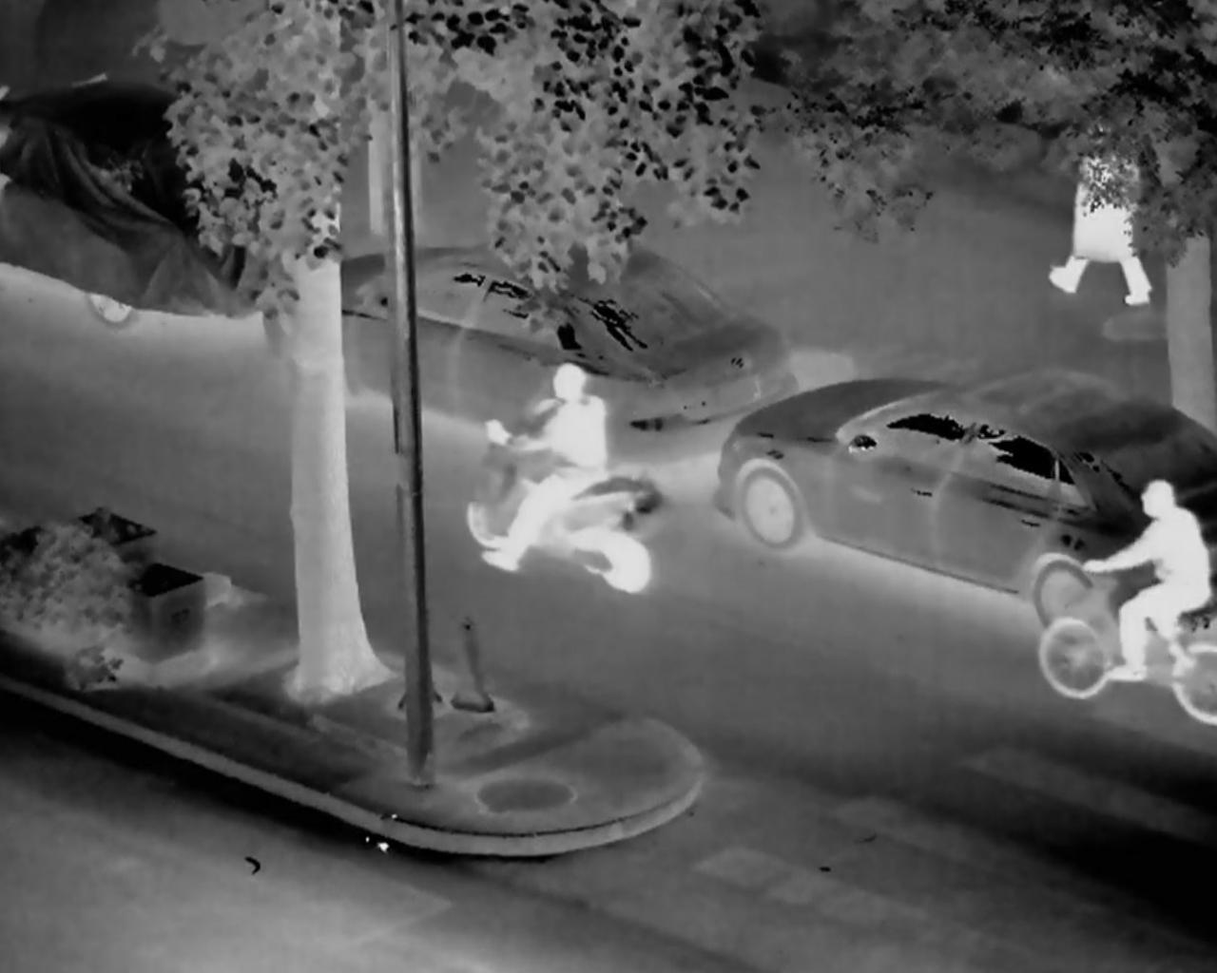person: (469, 363, 619, 582), (1085, 473, 1217, 720), (1057, 117, 1171, 313)
